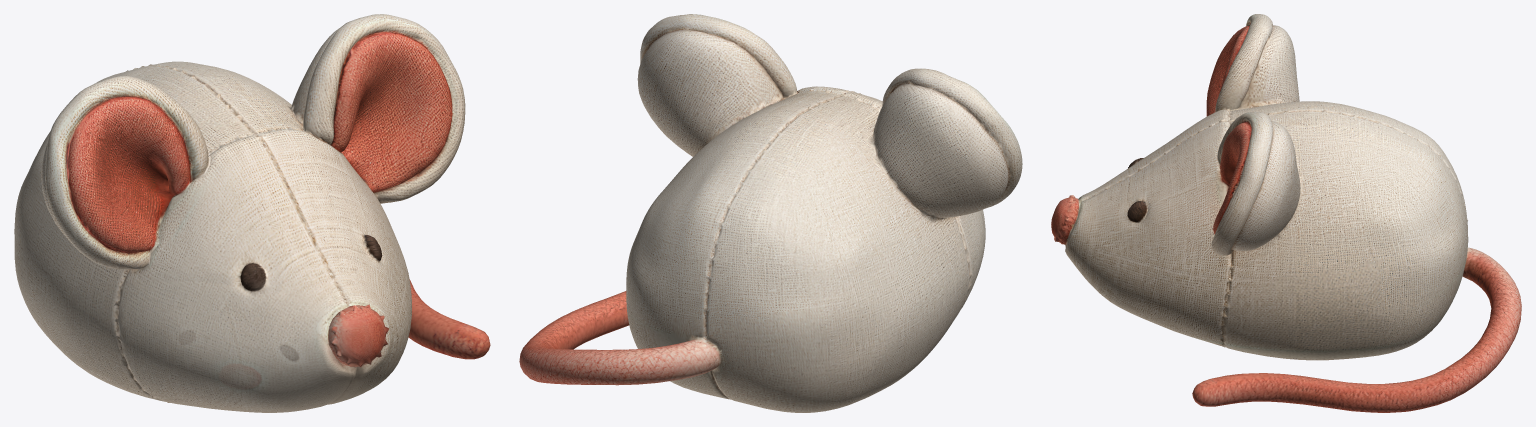
The model's file is tripo_convert_63cc99c2-7042-45ac-a15f-92b968c4ea66.fbx.
3 views of the same model, side by side, from view 1: azimuth 30°, elevation 25°; view 2: azimuth 150°, elevation 25°; view 3: azimuth 270°, elevation 25° (orthographic). The views are drawn at different scales.
Parts seen in each view (by area): view 1: tripo_node_63cc99c2; view 2: tripo_node_63cc99c2; view 3: tripo_node_63cc99c2.
Boxes of the visible parts, <box> form: tripo_node_63cc99c2: <box>14,14,490,412</box>; tripo_node_63cc99c2: <box>519,14,1022,412</box>; tripo_node_63cc99c2: <box>1051,14,1521,412</box>.
Bounding box in the file's own units: 0.8126 × 0.6038 × 0.9803.
1 material, 1 textured.
